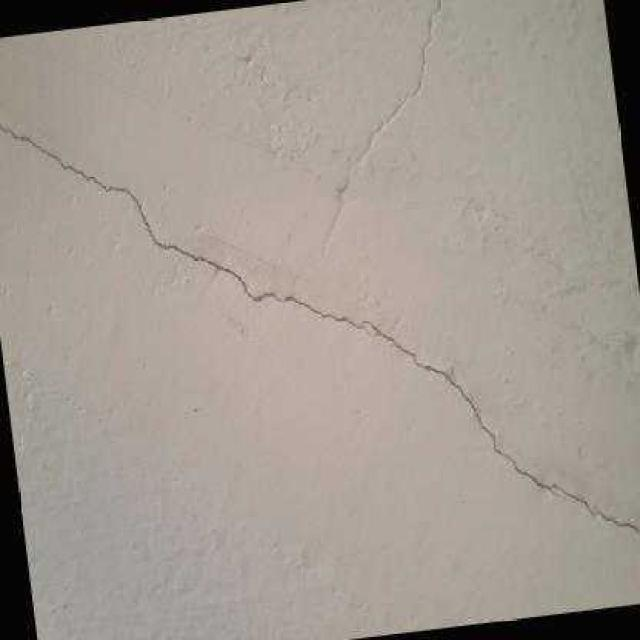D00: (0, 122, 369, 333), (362, 320, 640, 534)
